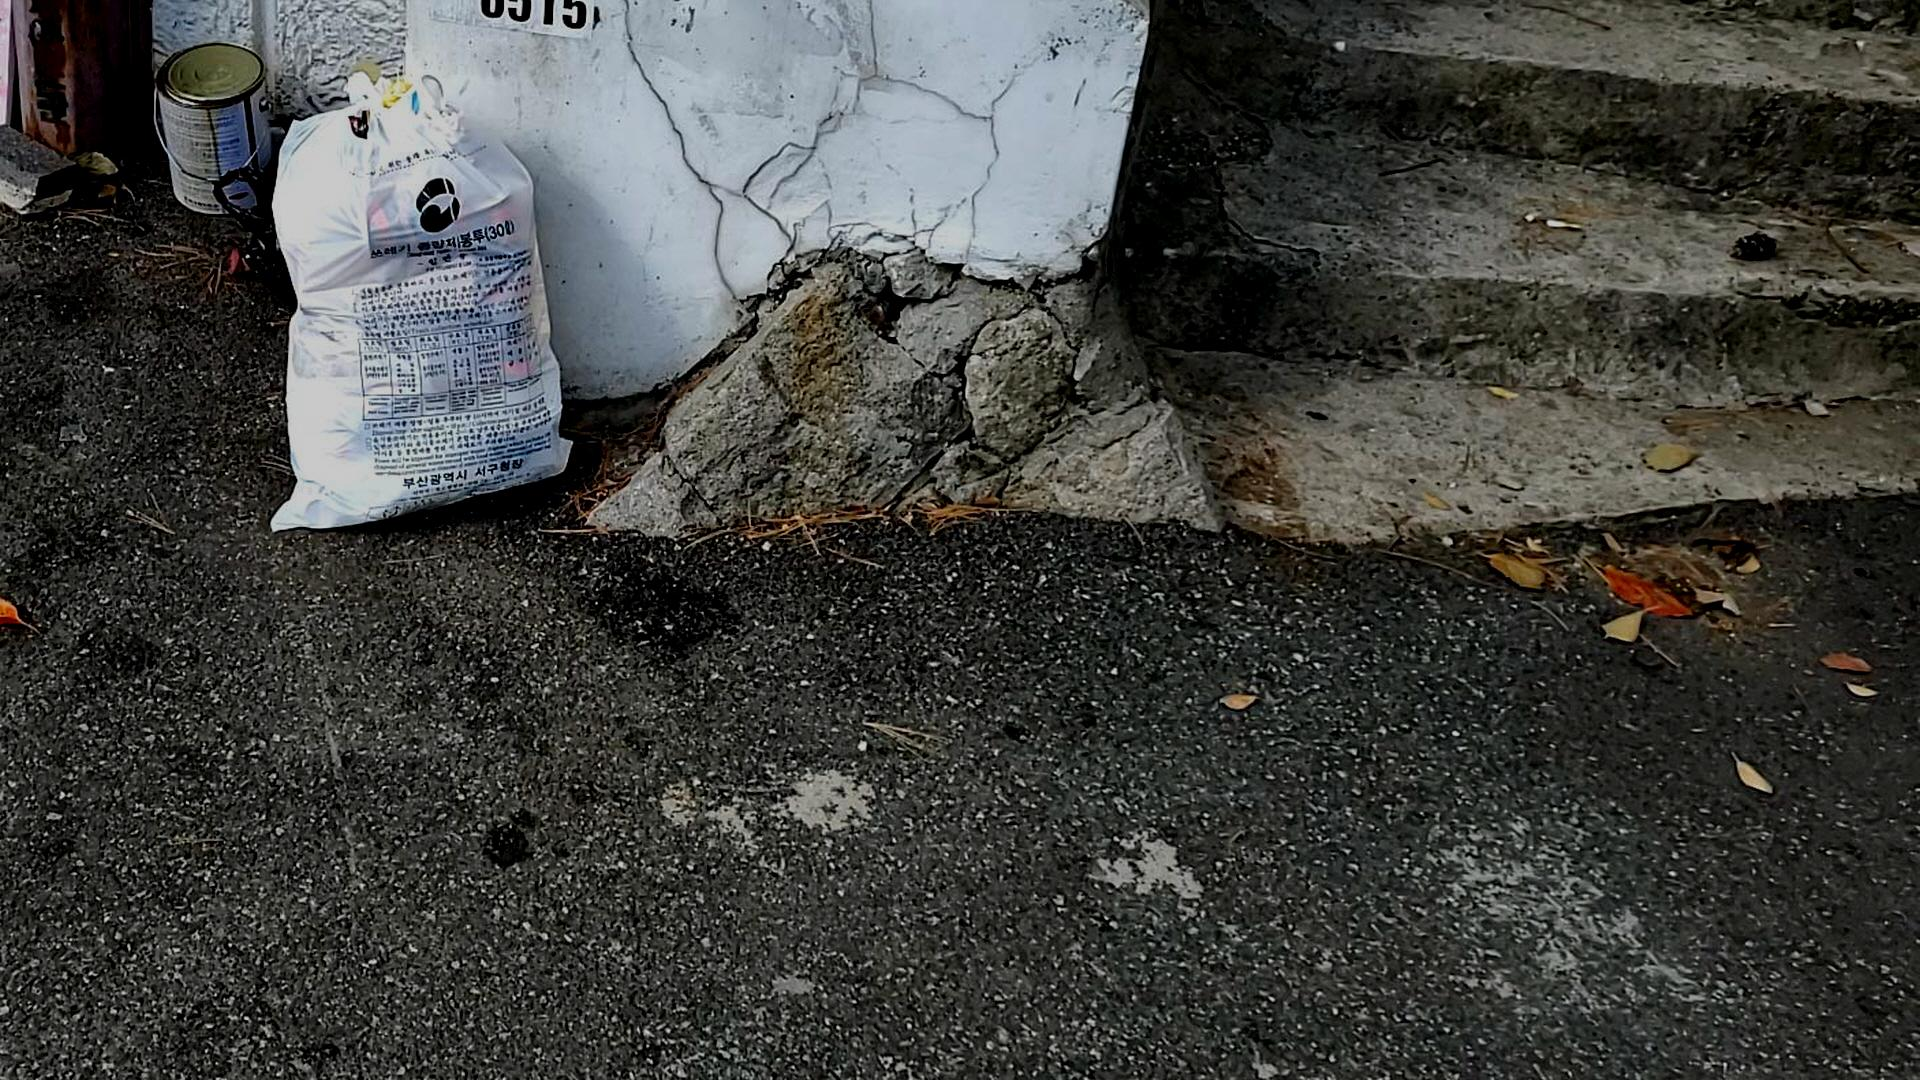white_bag: (256, 67, 583, 550)
